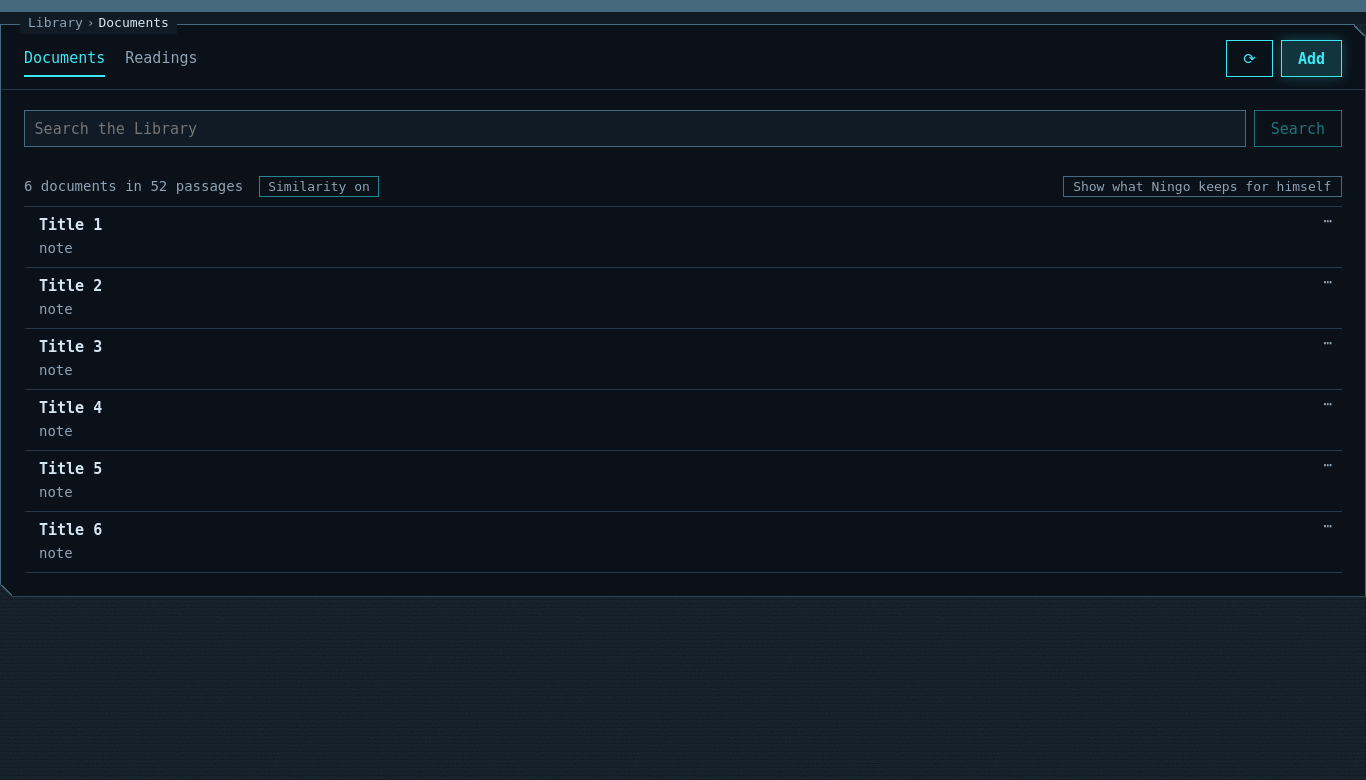
Scenario: what a search finds › opens the document from the title of a hit, and offers no title to open for a hit that names none
Type "boredom" into the search field. click: (635, 129)
box: [24,110,1246,147]
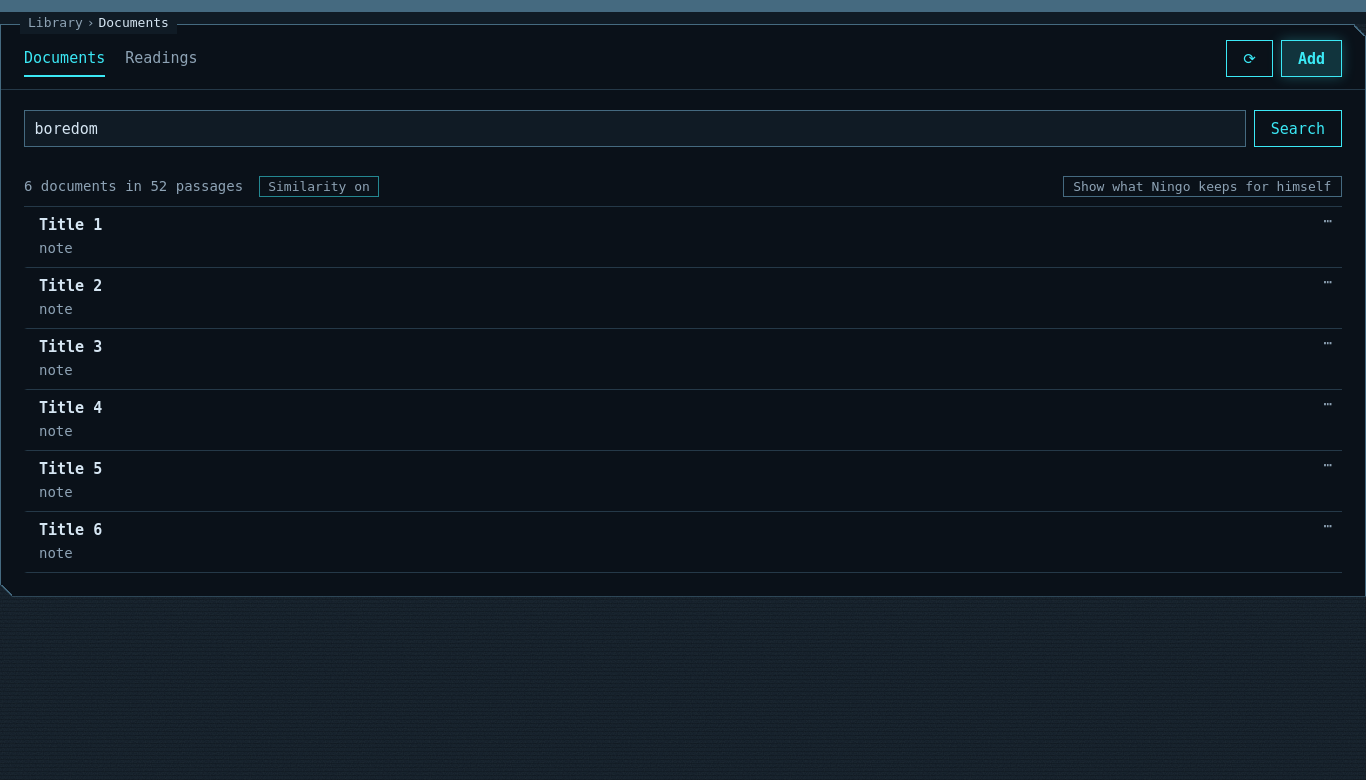
Click the button "Search". click: (1298, 129)
box: [1254,110,1342,147]
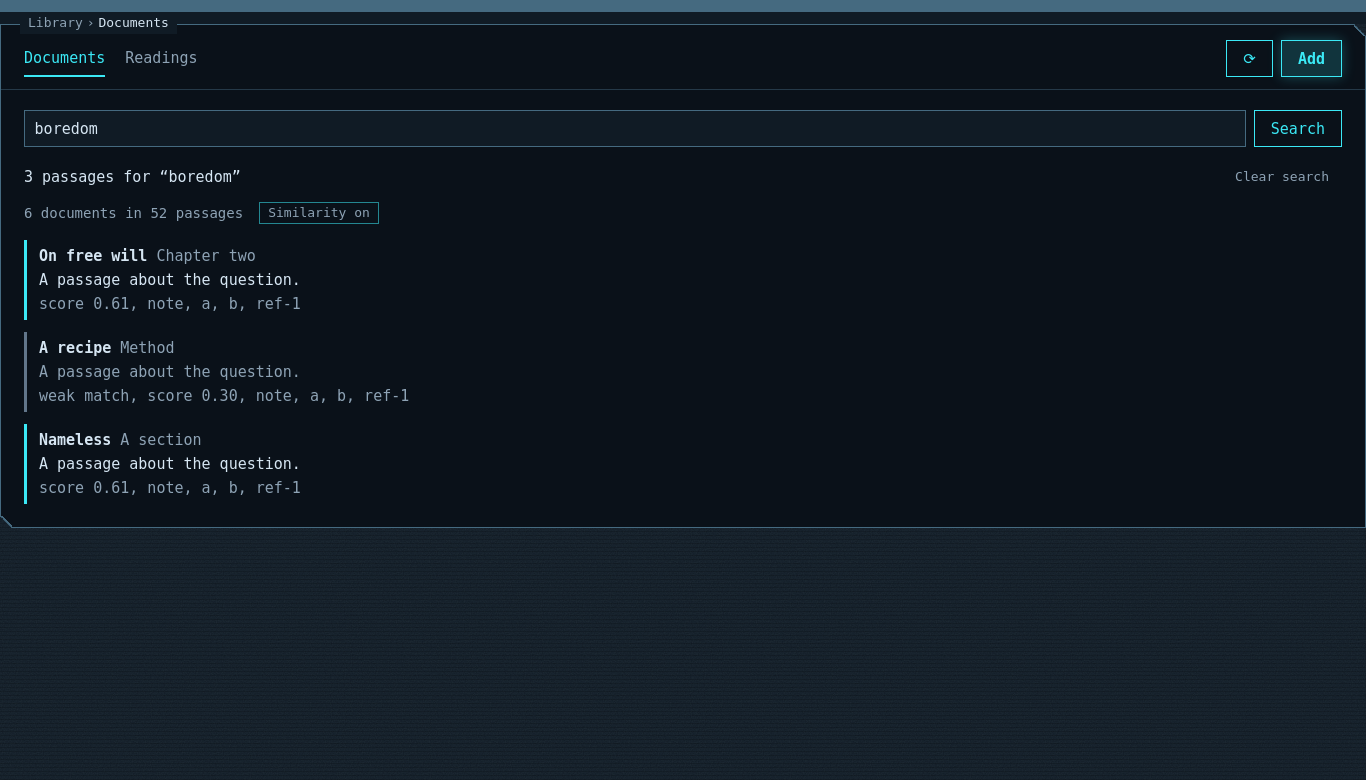
Expected: the text "3 passages for “boredom”" is shown, [24,165,241,189]
Click the button with aria-label "Open On free will". click: (93, 256)
box: [39,244,147,268]
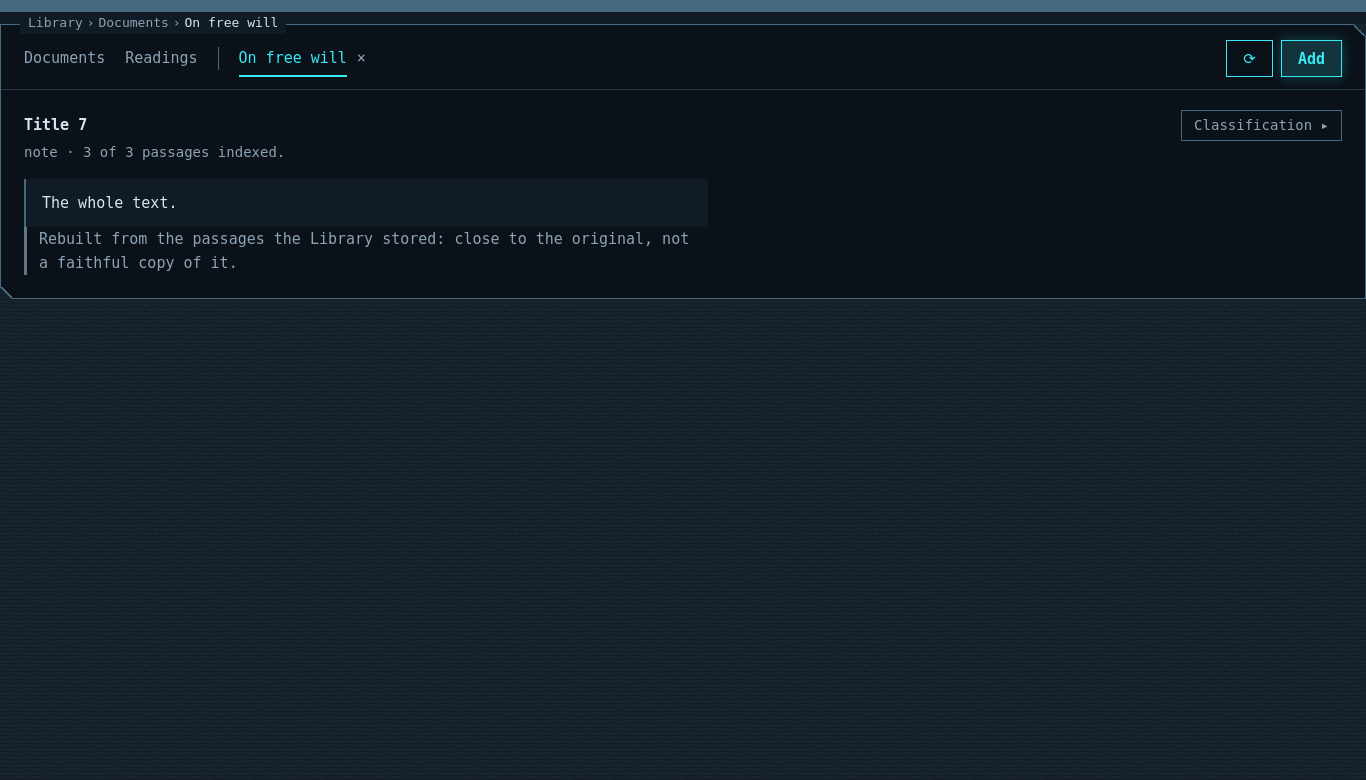
Expected: the text "The whole text." is shown, [24,179,708,227]
